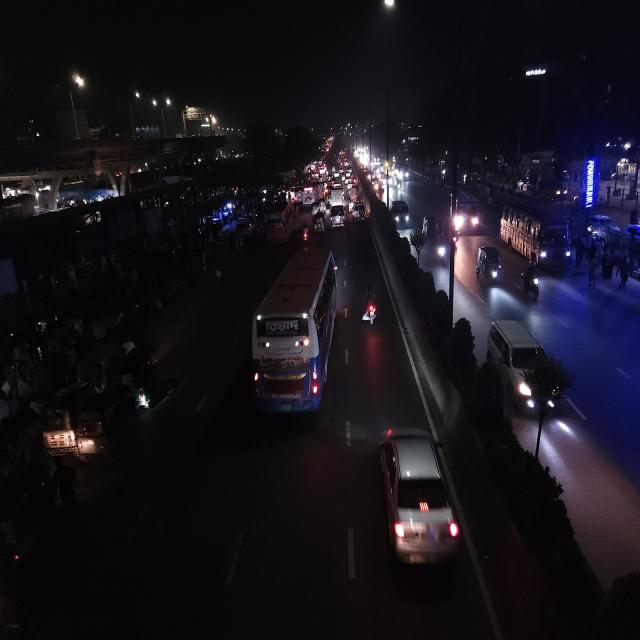bus: (249, 244, 338, 425), (498, 199, 573, 269), (450, 188, 482, 236), (264, 198, 294, 244), (303, 182, 322, 204), (293, 184, 304, 205)
car: (375, 423, 461, 579), (486, 315, 572, 422), (474, 242, 504, 296), (390, 197, 412, 228), (329, 201, 345, 230), (352, 199, 366, 223)
cng: (74, 385, 134, 466), (119, 344, 159, 413), (38, 398, 78, 459), (474, 242, 504, 295), (421, 212, 435, 241), (312, 211, 326, 236)
motorcycle: (519, 257, 543, 303), (360, 282, 380, 330), (300, 222, 310, 243)
pedestrian: (586, 255, 600, 292)
truck: (331, 190, 343, 206)
